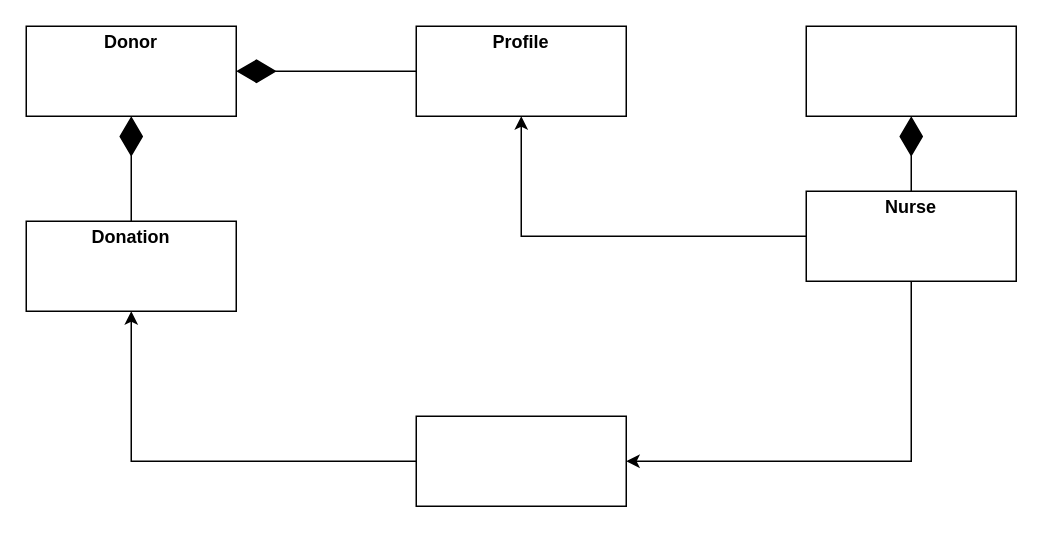
Some shapes in this 1043 by 533 pixel diagram are drawn without their labels. The centre of each missing label's shape, as x and y in pixels:
"Certificate" belongs at pixel 520 460.
"Hospital" belongs at pixel 910 70.
